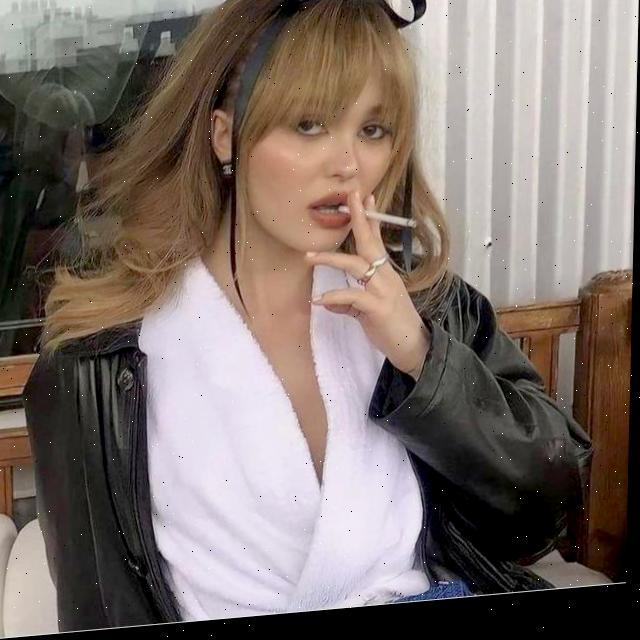cigarette: (337, 203, 418, 243)
